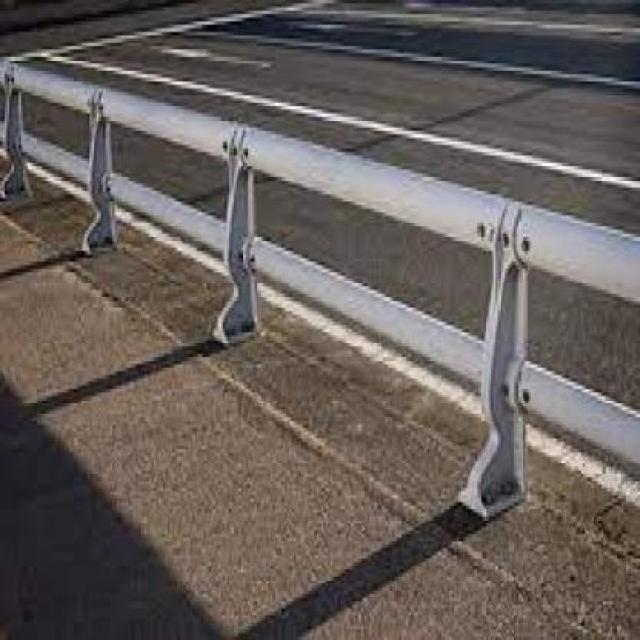Guard rail: (0, 48, 640, 540)
